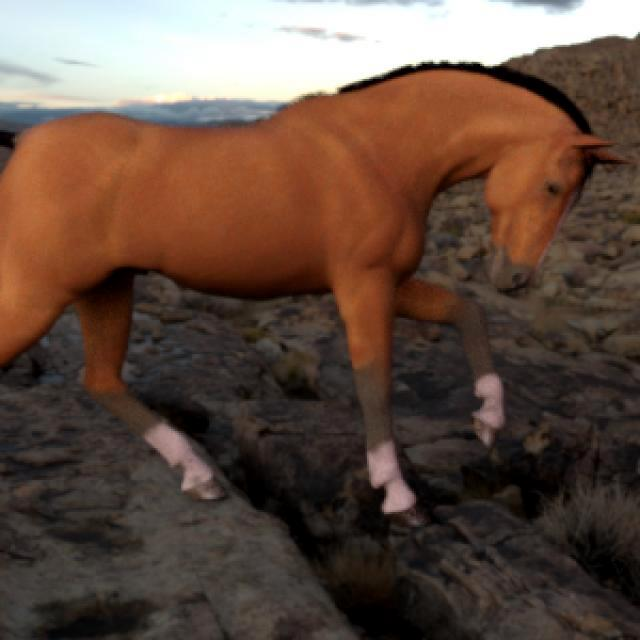horse: (0, 62, 624, 527), (0, 131, 14, 146)
